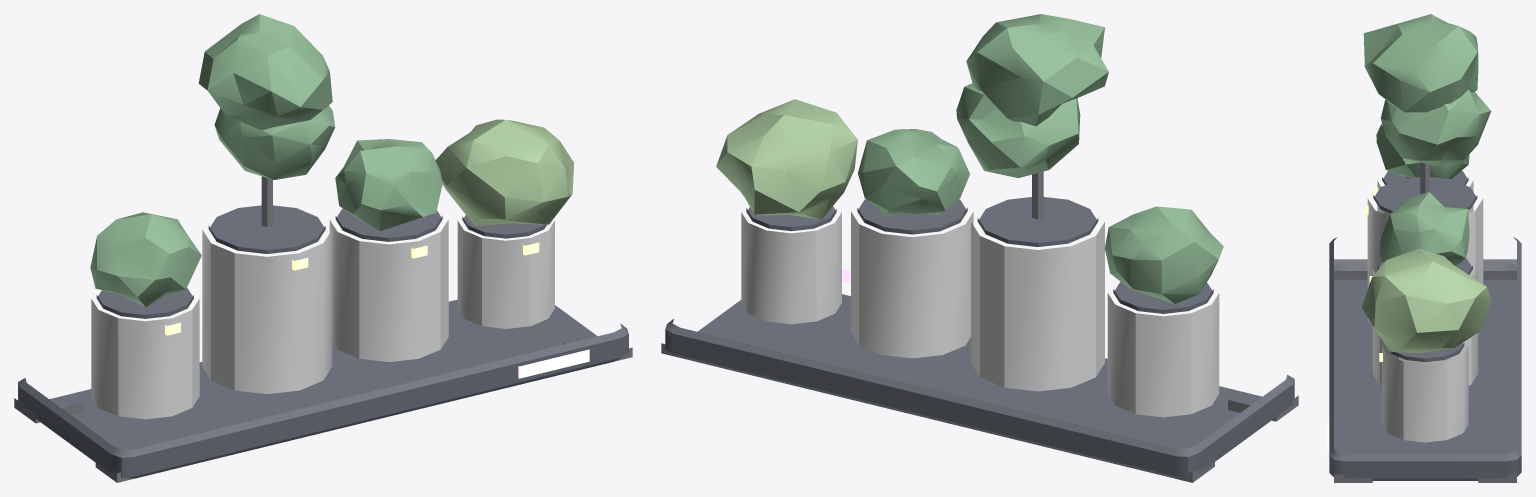
The model's file is iter_03.glb.
The picture shows the model from 3 angles, left to right: view 1: azimuth 30°, elevation 25°; view 2: azimuth 150°, elevation 25°; view 3: azimuth 270°, elevation 25°; orthographic projection. The views are drawn at different scales.
Parts seen in each view (by area): view 1: Pots, Tray, Foliage, Foliage_Light, Grow_Lids, Water_Gauge, Floor_Clamps, Pot_Latches; view 2: Pots, Tray, Foliage, Foliage_Light, Grow_Lids, Floor_Clamps; view 3: Tray, Foliage, Pots, Foliage_Light, Grow_Lids, Floor_Clamps, Stems.
Boxes of the visible parts, box(x1,y1,x2,y2) form: Pots: box(91, 220, 554, 419); Tray: box(18, 299, 628, 478); Foliage: box(90, 14, 442, 307); Foliage_Light: box(435, 119, 573, 225); Grow_Lids: box(96, 205, 546, 318); Water_Gauge: box(518, 349, 589, 378); Floor_Clamps: box(14, 343, 632, 482); Pot_Latches: box(165, 242, 539, 335); Pots: box(741, 211, 1219, 417); Tray: box(665, 294, 1294, 478); Foliage: box(858, 14, 1223, 303); Foliage_Light: box(716, 99, 857, 219); Grow_Lids: box(746, 197, 1213, 313); Floor_Clamps: box(661, 339, 1298, 482); Tray: box(1329, 237, 1521, 480); Foliage: box(1363, 14, 1491, 266); Pots: box(1367, 181, 1483, 442); Foliage_Light: box(1362, 248, 1491, 352); Grow_Lids: box(1373, 170, 1477, 362); Floor_Clamps: box(1334, 259, 1516, 482); Stems: box(1420, 162, 1430, 194).
Size of the model in its own units: 1.1 by 0.7459 by 0.404.
